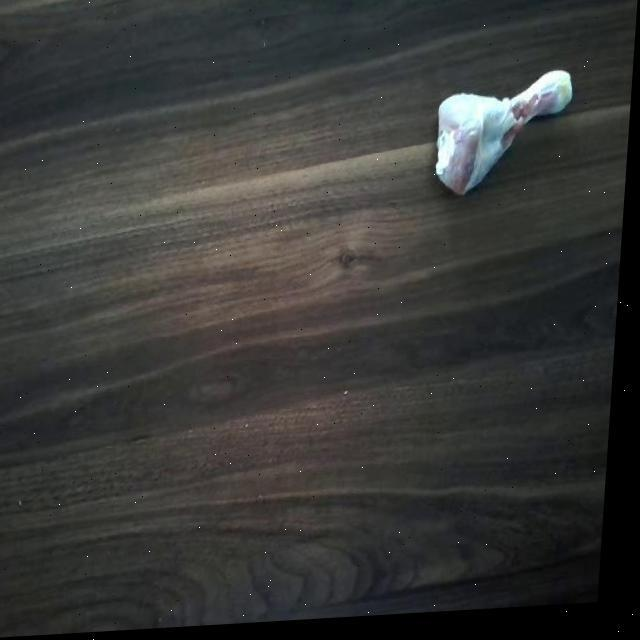leg: (432, 74, 580, 204)
